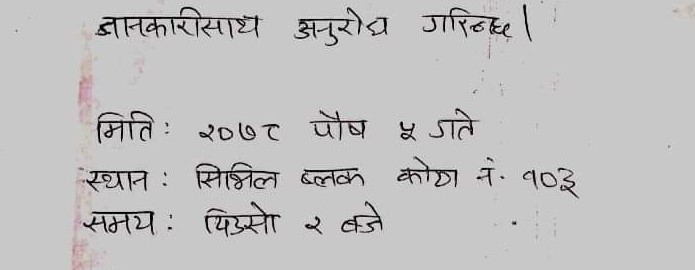text: (94, 6, 269, 43), (290, 6, 392, 49), (416, 3, 515, 43), (191, 112, 288, 147), (198, 198, 281, 238), (188, 160, 283, 192), (79, 205, 161, 238), (515, 161, 581, 201), (392, 156, 465, 191), (90, 107, 159, 144), (306, 107, 370, 141), (300, 161, 371, 188), (85, 165, 152, 193), (334, 199, 386, 232), (429, 107, 482, 138), (471, 157, 505, 197), (391, 113, 420, 146), (300, 210, 325, 237)
